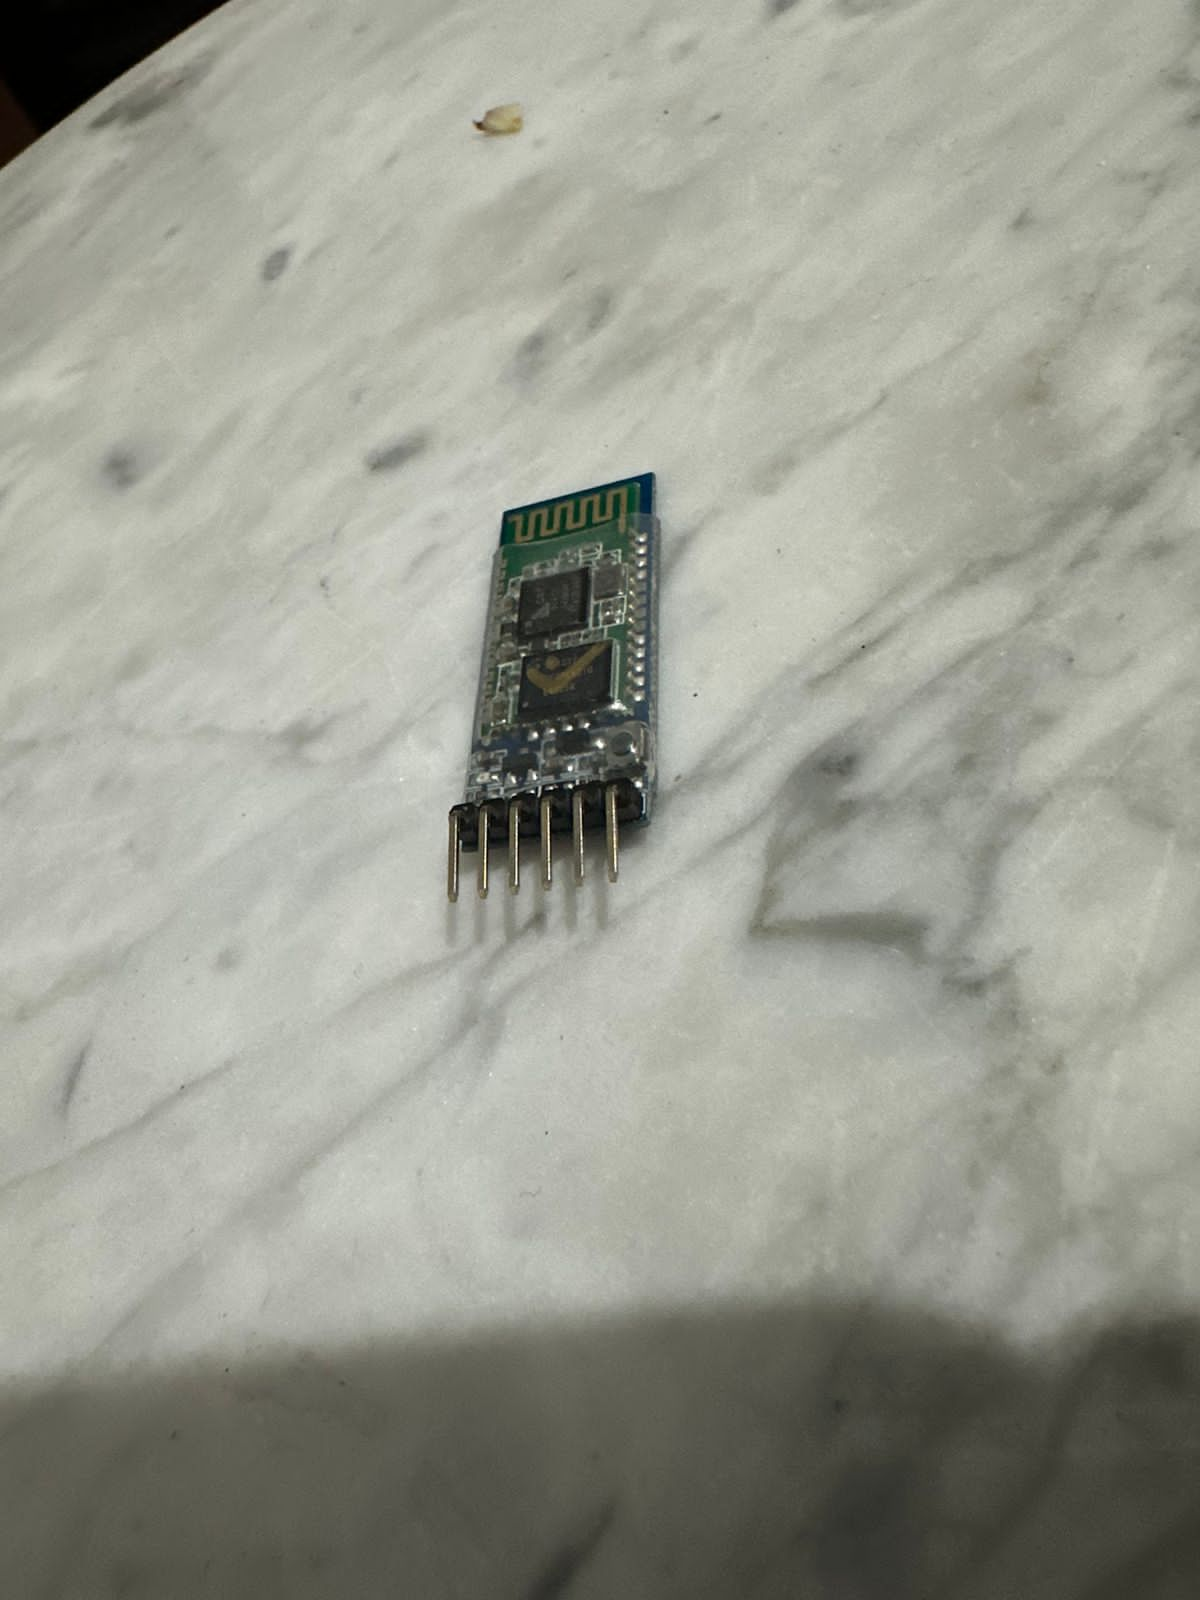module-bluetooth: (430, 469, 669, 903)
